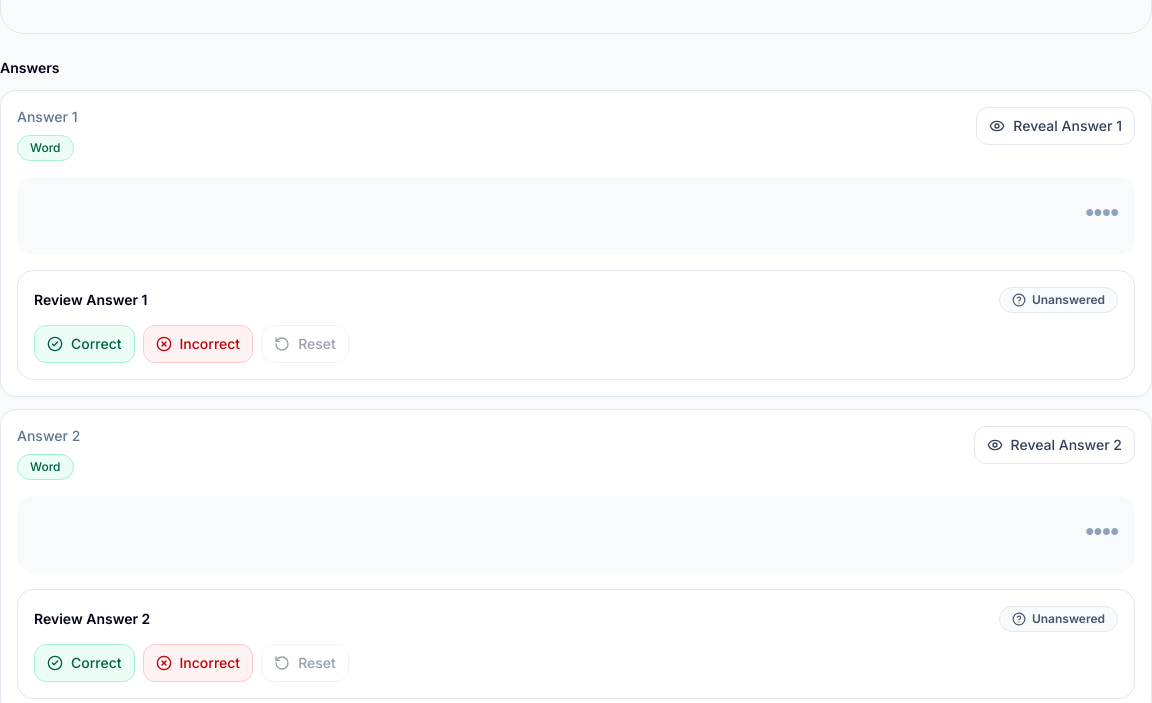
Test: GeneratedQuizPreview review mode › completes review when all answers are marked
(page scrolled)
What coordinates should you click on to do the following:
click the button with aria-label "mark answer 1 correct"
I would click on:
 (84, 344)
Its box is [34, 325, 134, 363].
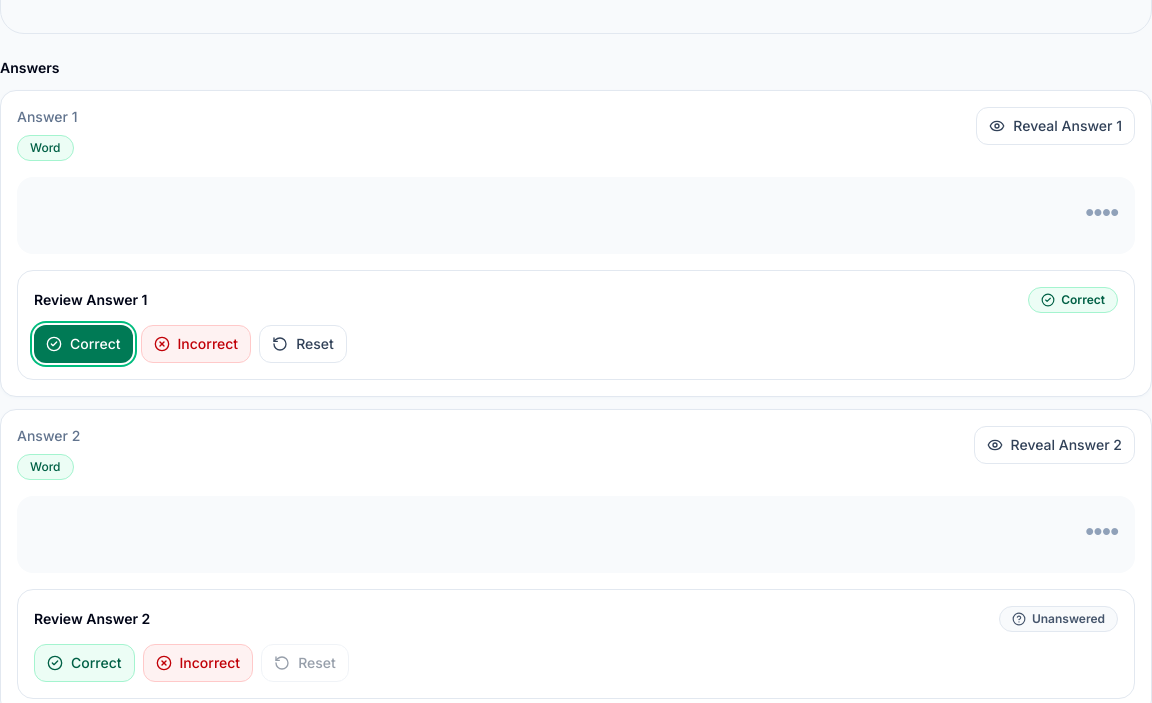
What coordinates should you click on to do the following:
click the button with aria-label "mark answer 2 incorrect"
I would click on:
 (198, 663)
Its box is [142, 644, 253, 682].
(page scrolled)
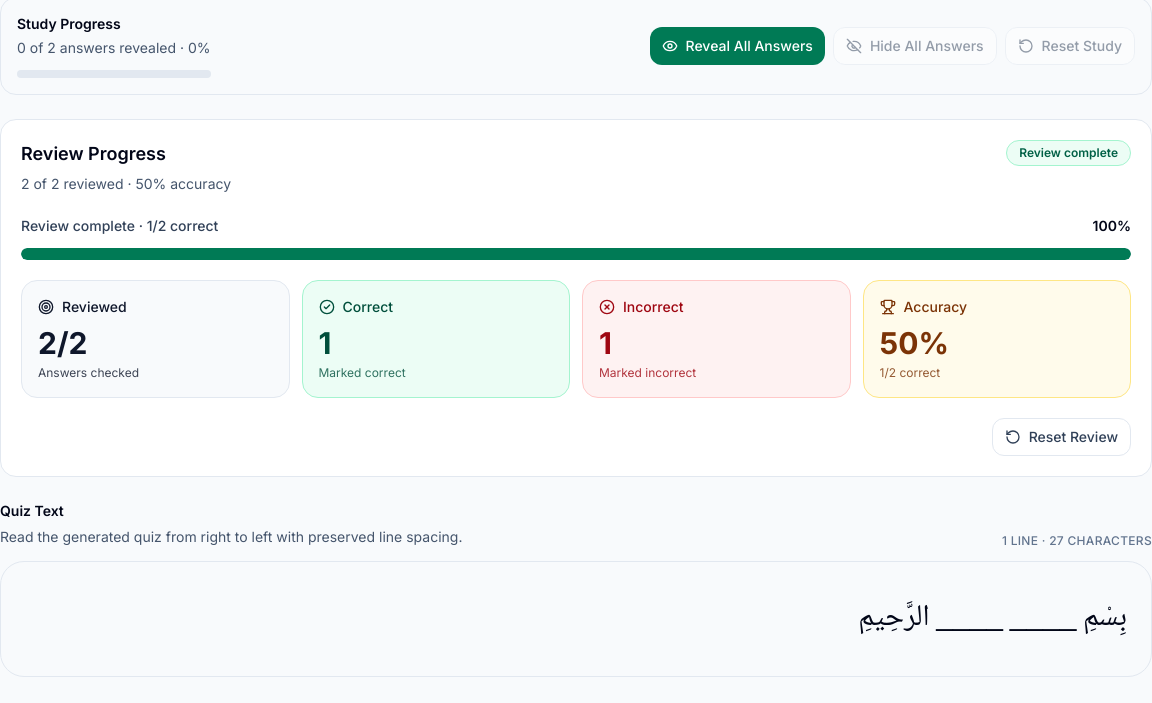
Expected: the text with test id "review-progress-status" reads "Review complete", [1019, 145, 1118, 160]
Expected: the text with test id "review-completion-text" reads "Review complete · 1/2 correct", [21, 217, 218, 234]
Expected: the text with test id "review-percentage-text" reads "100%", [1092, 216, 1131, 236]
